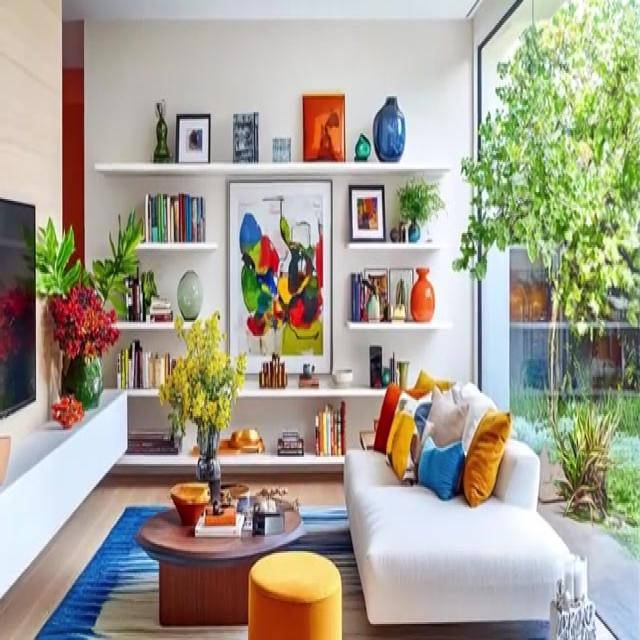obstacle: (94, 158, 453, 475), (343, 372, 586, 626), (134, 496, 305, 626)
